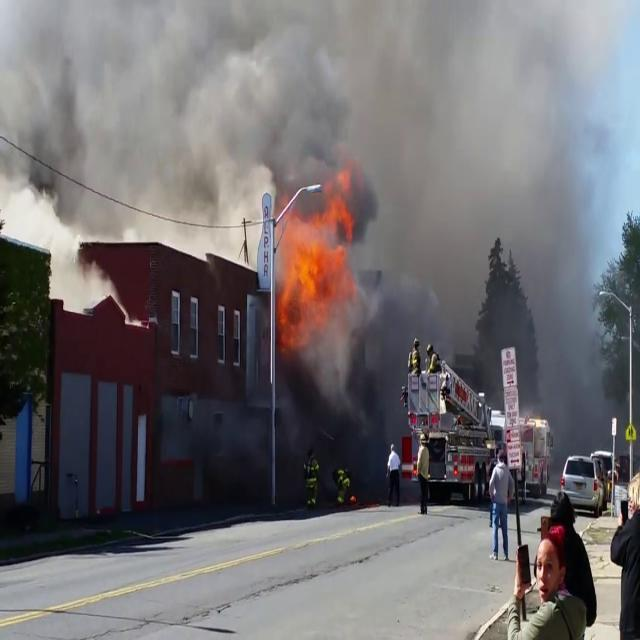Fire: (268, 195, 356, 348)
